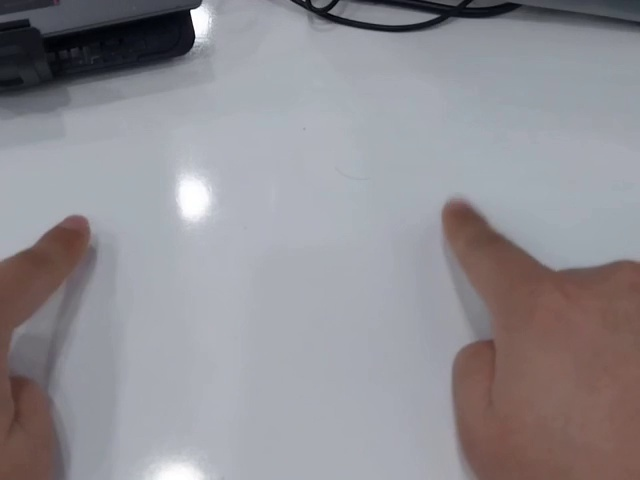fingers: (42, 213, 91, 273), (439, 194, 485, 245)
